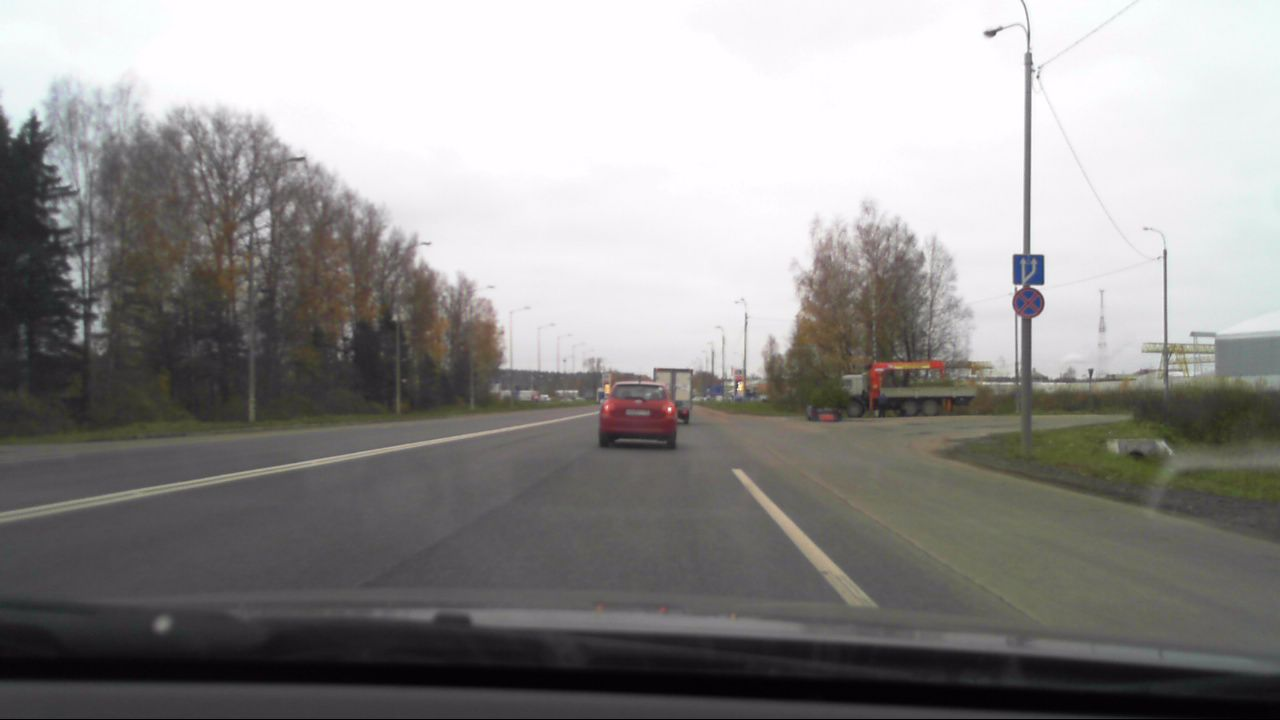No Parking: (1010, 287, 1045, 321)
